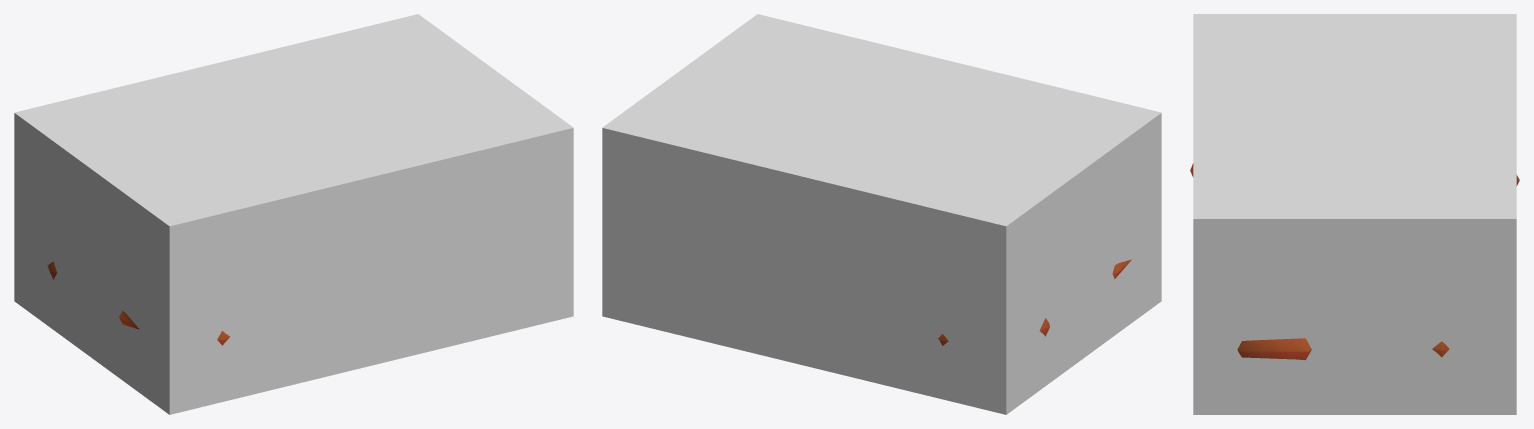
File: FMS_Crate_Fill_Apple.fbx
The picture shows the model from 3 angles, left to right: view 1: azimuth 30°, elevation 25°; view 2: azimuth 150°, elevation 25°; view 3: azimuth 270°, elevation 25°; orthographic projection. The views are drawn at different scales.
Visible parts, largest first — view 1: Crate_Fill_Apple_Col; view 2: Crate_Fill_Apple_Col; view 3: Crate_Fill_Apple_Col, Crate_Fill_Apple_LOD0.
Part boxes in pixels (x1,y1,x2,y2): Crate_Fill_Apple_Col: (14, 14, 573, 414); Crate_Fill_Apple_Col: (602, 14, 1161, 414); Crate_Fill_Apple_Col: (1193, 14, 1516, 414); Crate_Fill_Apple_LOD0: (1190, 163, 1519, 360).
Size of what is drawn, in the model's own units: 42.11 by 18.4 by 28.05.
